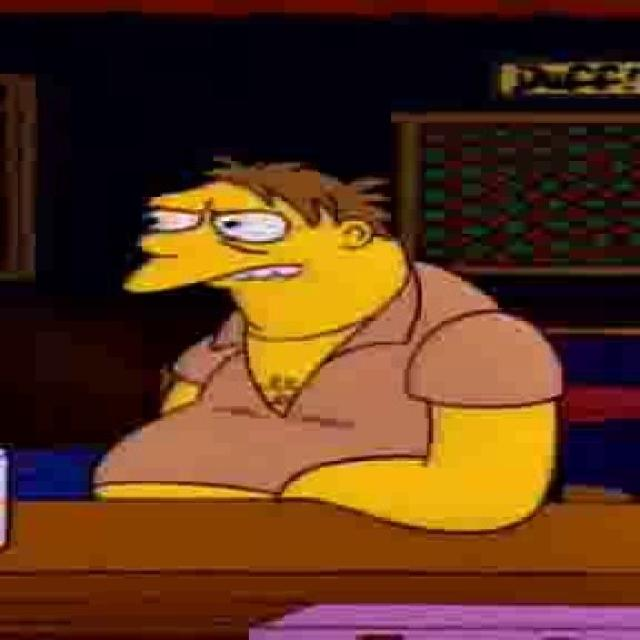Barney Gumble: (117, 159, 421, 346)
